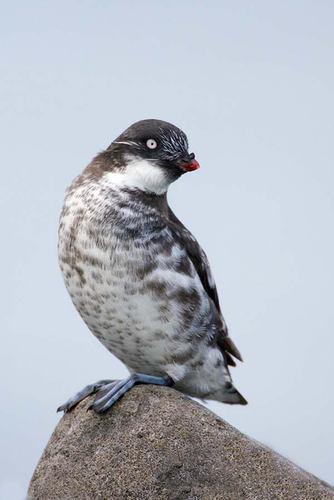006.Least_Auklet: (54, 119, 253, 417)
